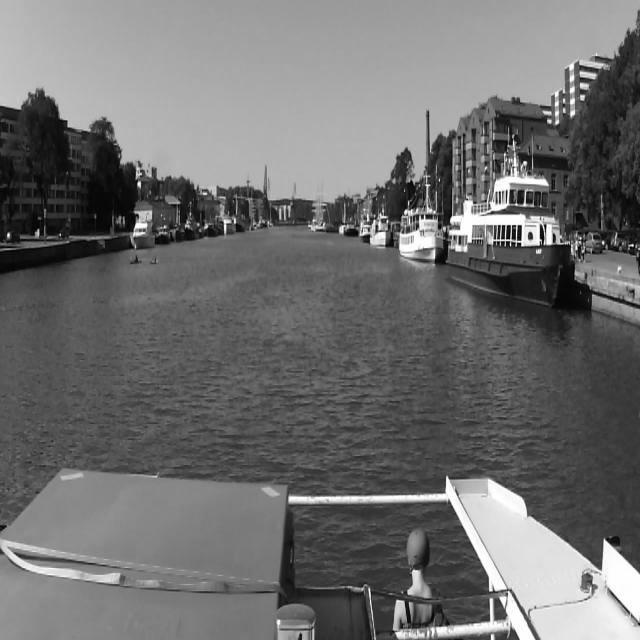ship: (446, 130, 574, 313), (400, 169, 442, 267), (370, 209, 392, 250), (130, 218, 154, 250), (222, 208, 238, 238), (130, 255, 142, 264), (150, 256, 158, 263)
